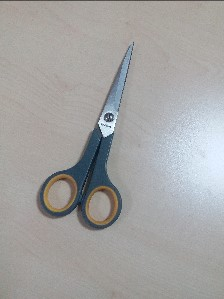scissors: (38, 40, 138, 233)
